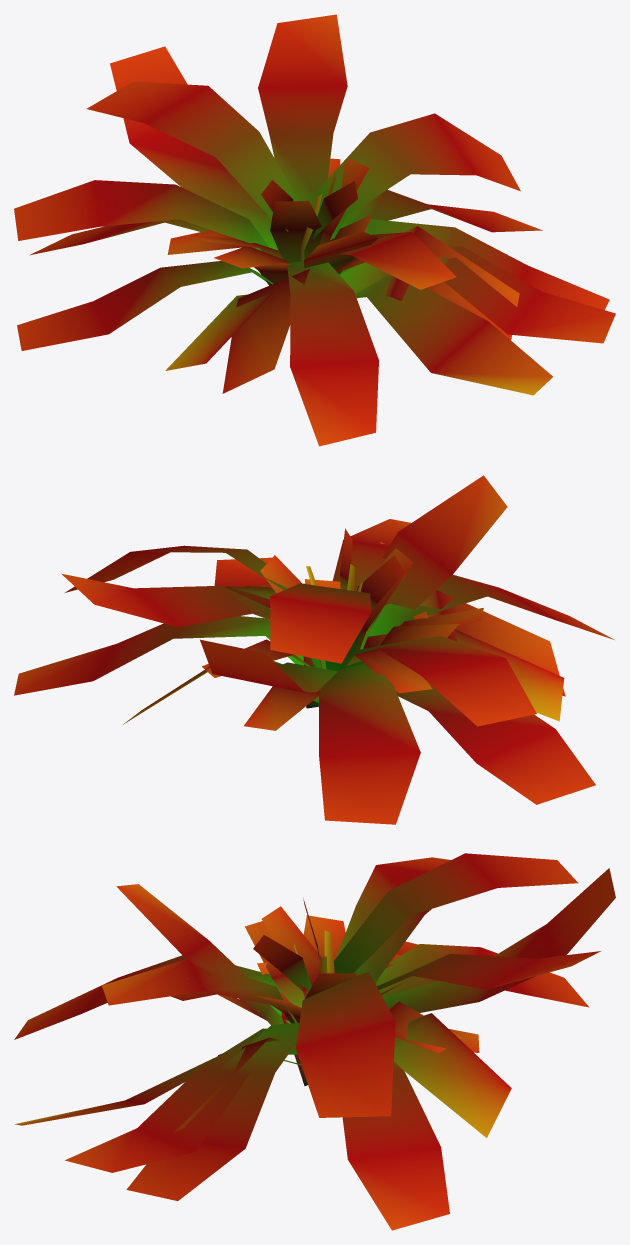
Rendered from Cape Weed_LOD2_Var3_tjmhfcyia.fbx.
3 renders of one model, top to bottom at view 1: azimuth 30°, elevation 25°; view 2: azimuth 150°, elevation 25°; view 3: azimuth 270°, elevation 25°, orthographic. The views are drawn at different scales.
Parts seen in each view (by area): view 1: _82fc_Var3_LOD2; view 2: _82fc_Var3_LOD2; view 3: _82fc_Var3_LOD2.
Part boxes in pixels (left/top/right/bottom): _82fc_Var3_LOD2: left=14, top=14, right=615, bottom=446; _82fc_Var3_LOD2: left=14, top=475, right=614, bottom=824; _82fc_Var3_LOD2: left=14, top=853, right=615, bottom=1230.
Bounding box in the file's own units: 38.22 × 12.7 × 34.73.
